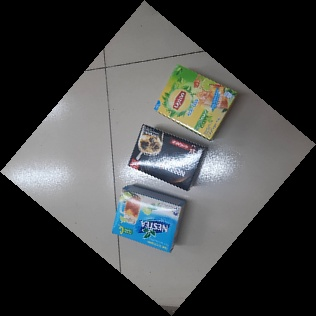CF Viet: (126, 124, 208, 191)
LipTon: (153, 65, 239, 139)
Nestea: (111, 184, 184, 255)
